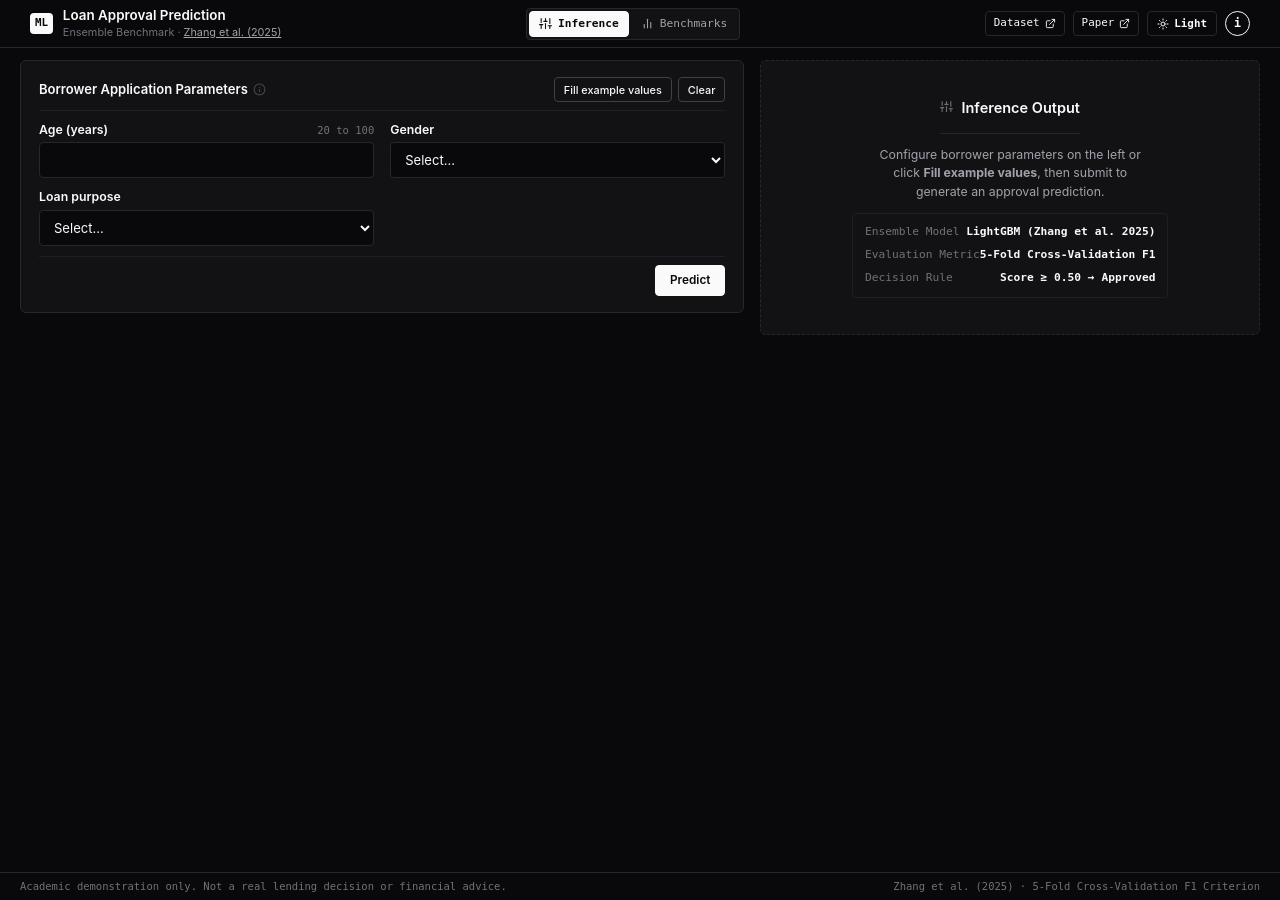
it: prediction form › shows backend validation messages next to the field
This screenshot has width=1280, height=900.
Type "30" into the number field labelled "Age (years)" at (207, 160), box [39,142,374,178]
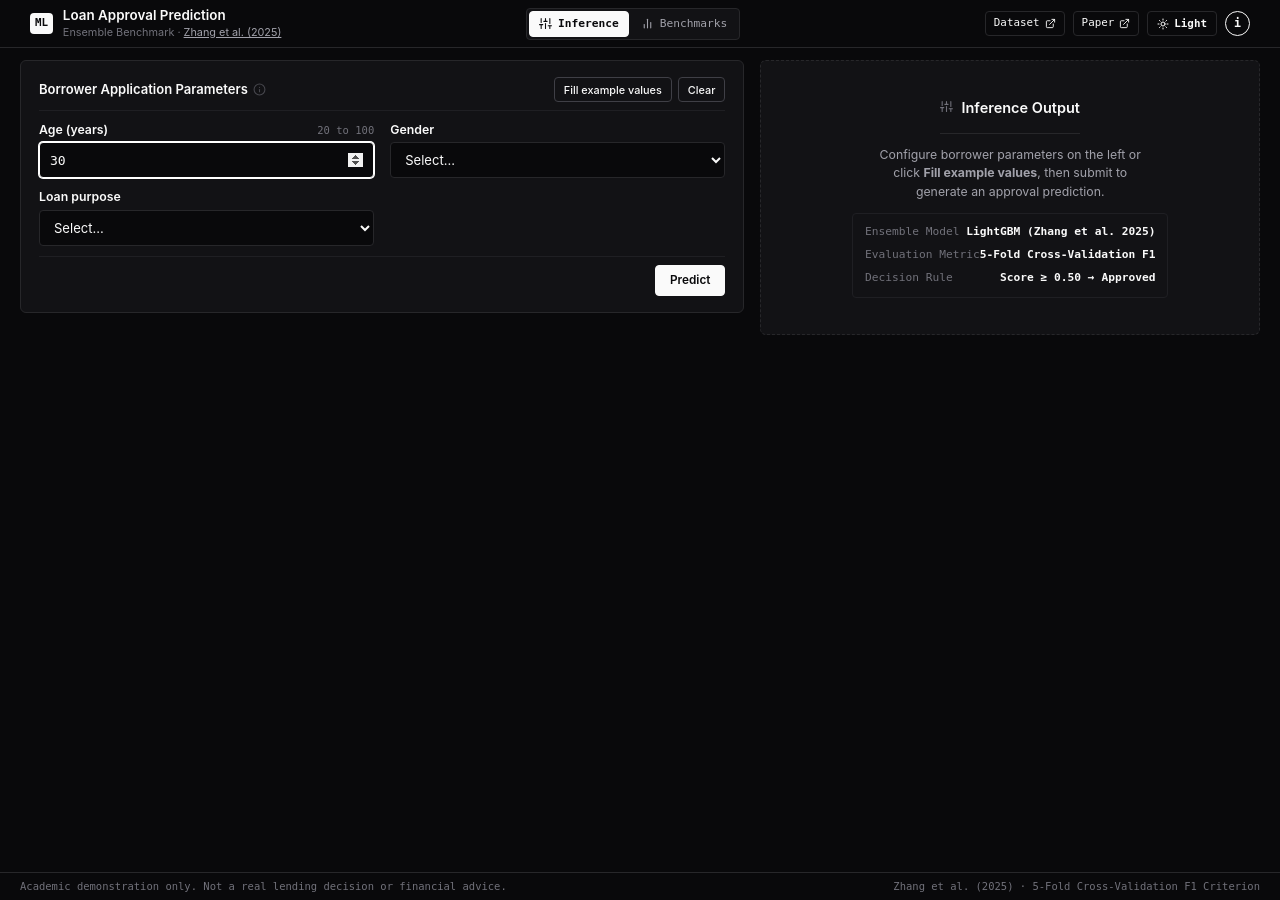
Select "Female" in the dropdown labelled "Gender" at (558, 160), box [390,142,725,178]
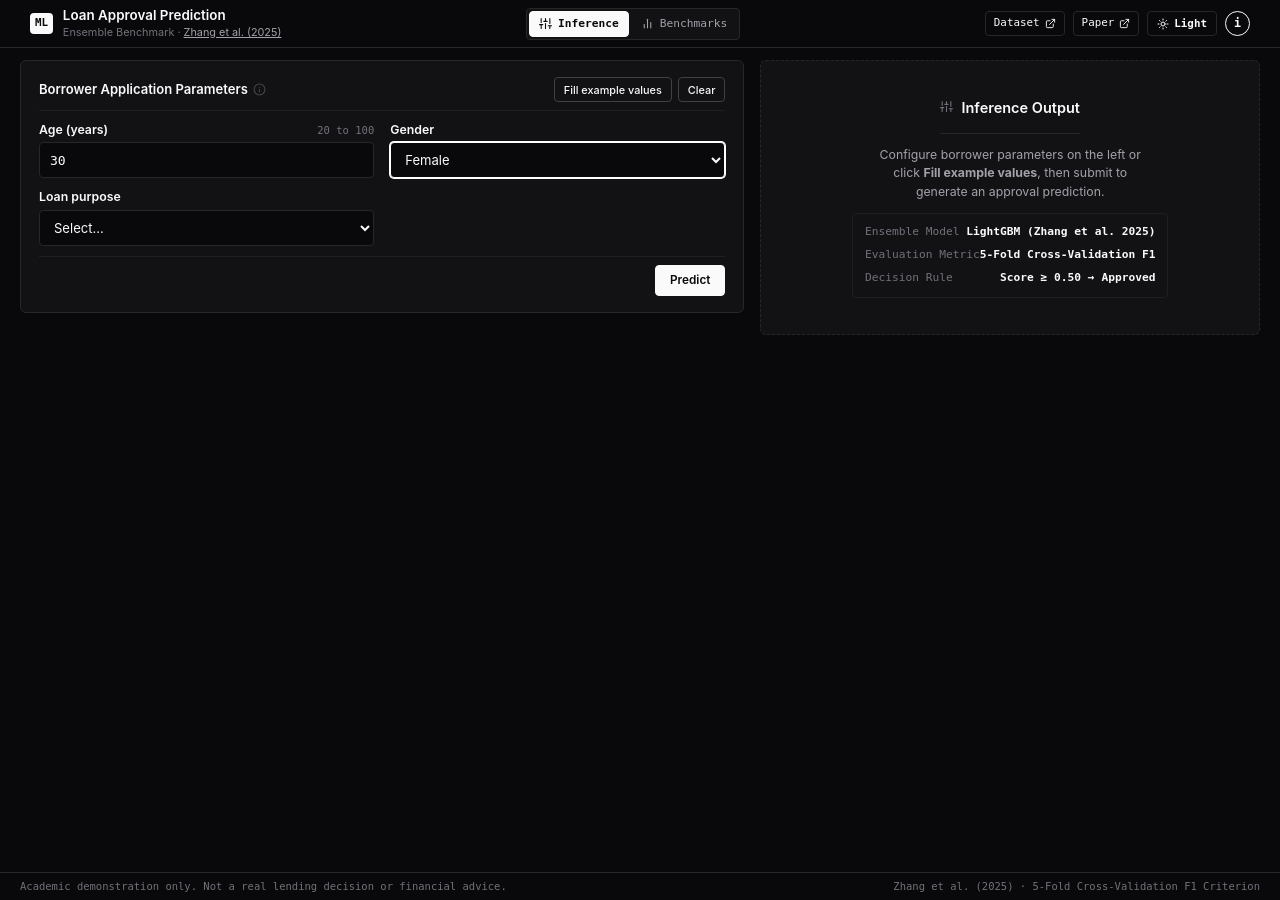
Select "Education" in the dropdown labelled "Loan purpose" at (207, 228), box [39,210,374,246]
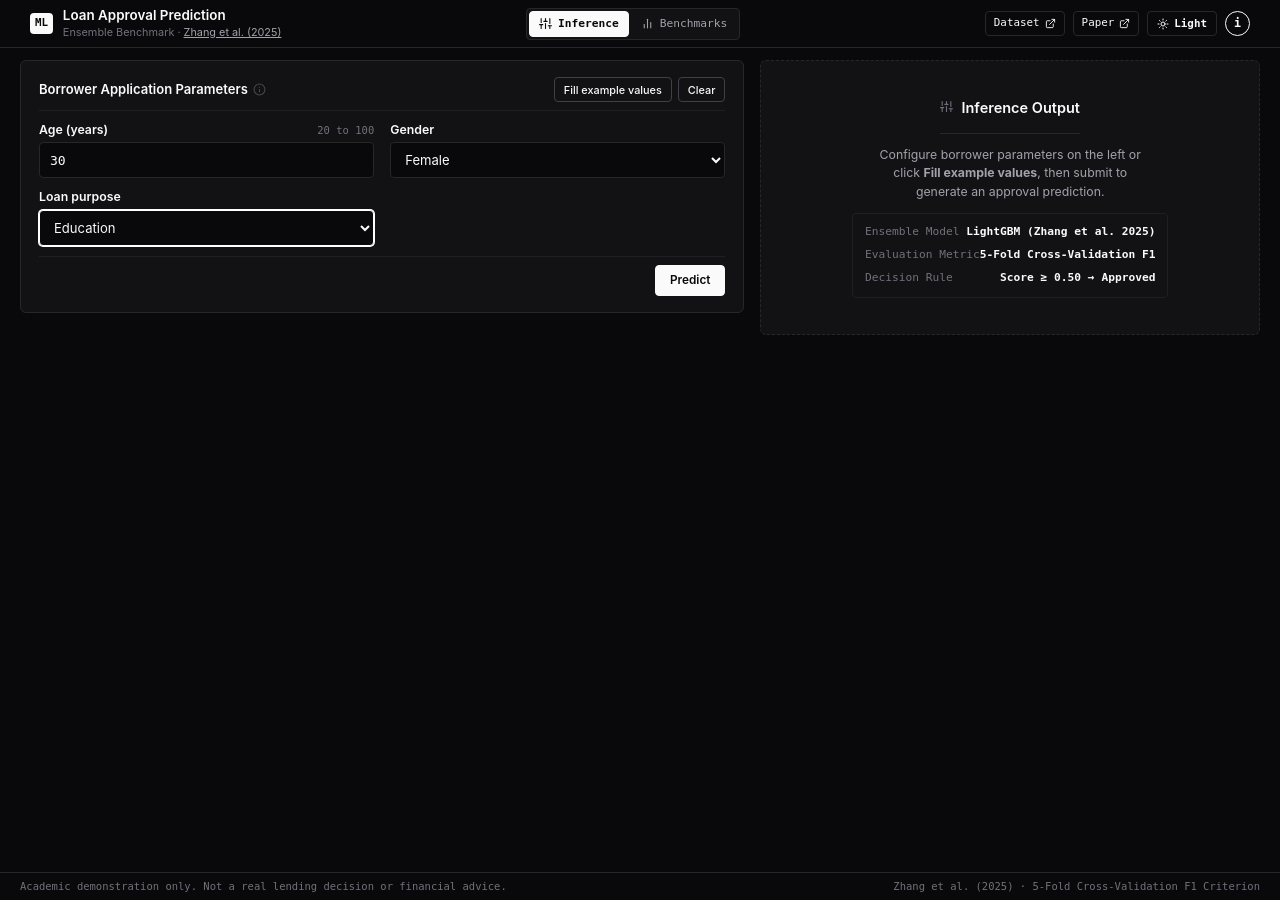
Click the button "Predict" at (690, 280), box [655,265,725,296]
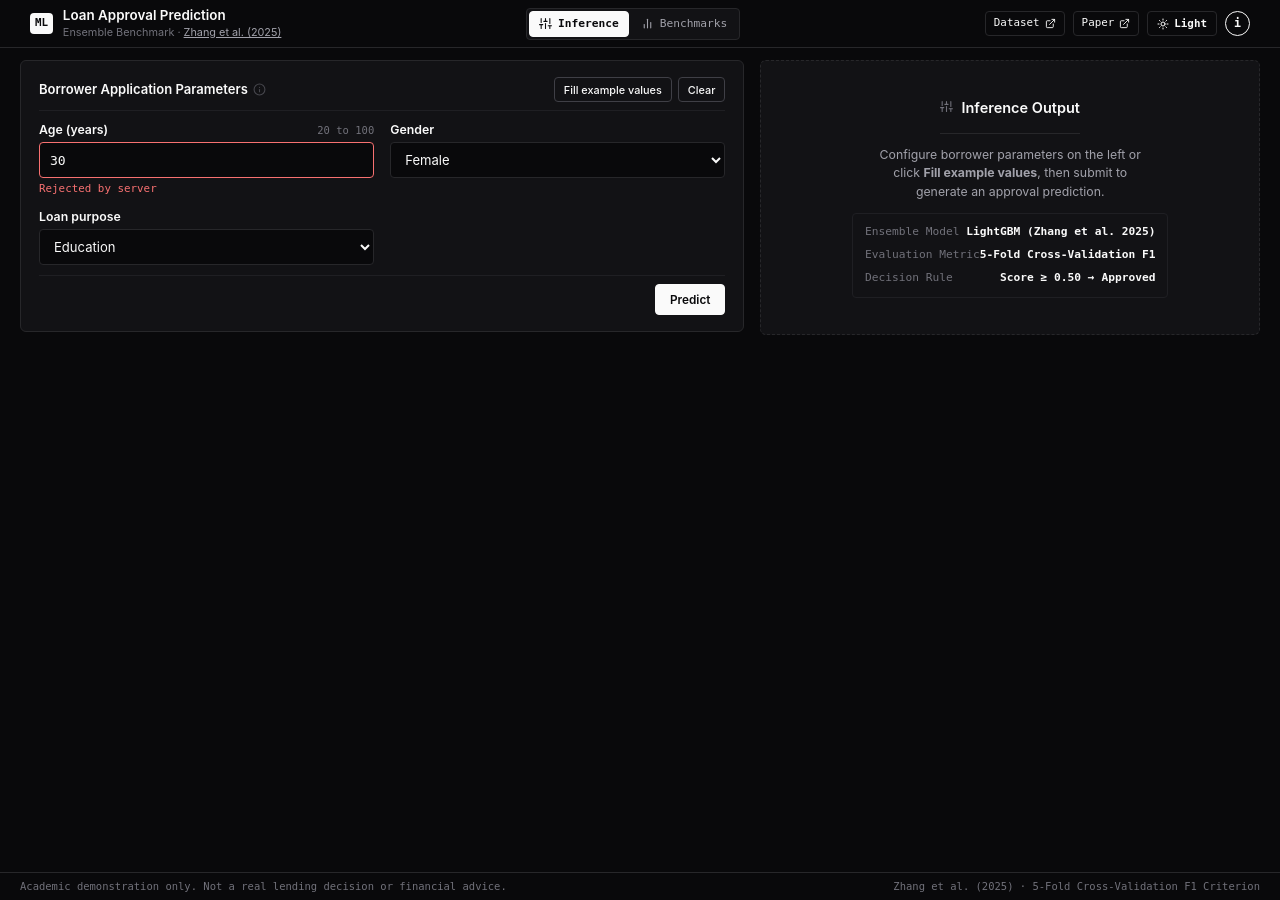
Now the text "Rejected by server" is shown, box [39,182,157,196]
